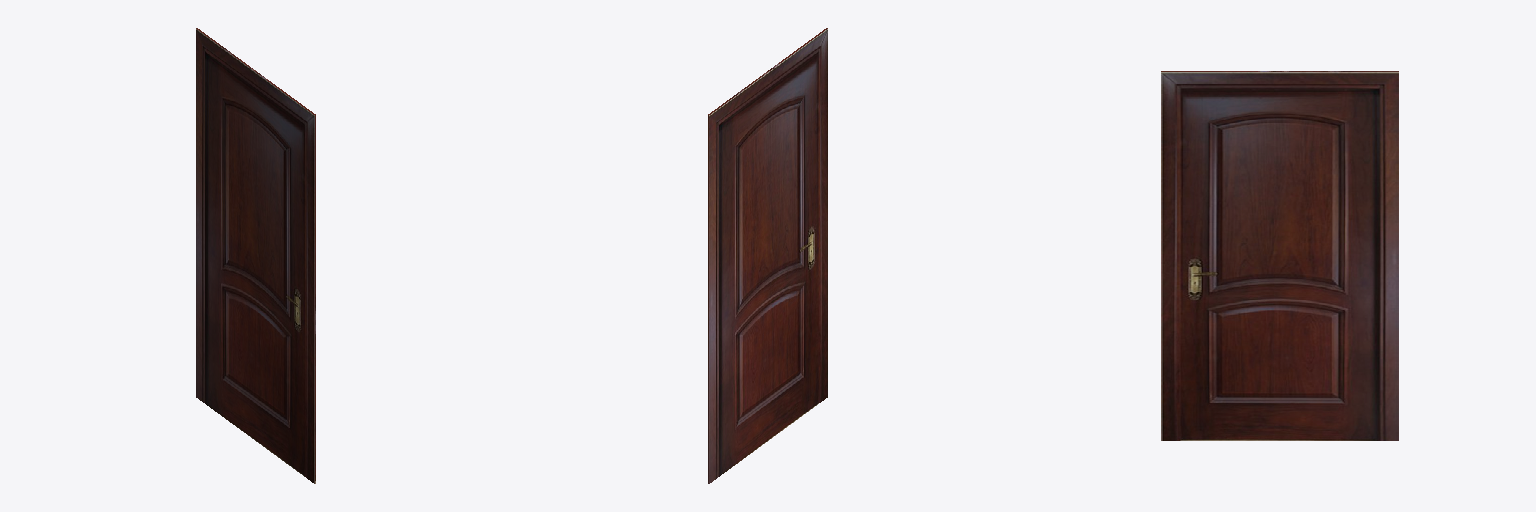
3 renders of one model, left to right at view 1: azimuth 30°, elevation 25°; view 2: azimuth 150°, elevation 25°; view 3: azimuth 270°, elevation 25°, orthographic.
Visible parts, largest first — view 1: polySurface24 pCube19; view 2: polySurface24 pCube19; view 3: polySurface24 pCube19.
Boxes of the visible parts, x1,y1,x2,y2 form: polySurface24 pCube19: [196, 28, 315, 483]; polySurface24 pCube19: [708, 28, 827, 483]; polySurface24 pCube19: [1161, 71, 1398, 440].
Bounding box in the file's own units: 0.0486 × 9.78 × 5.71.
Materials: 1 (1 with a texture image).